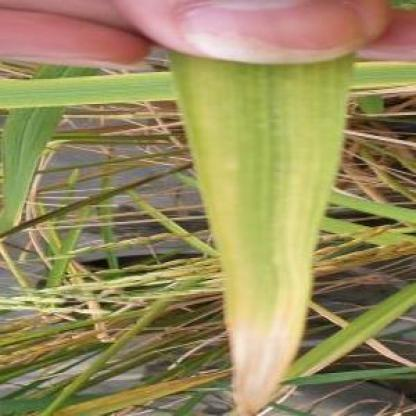Blight: (167, 51, 355, 416)
